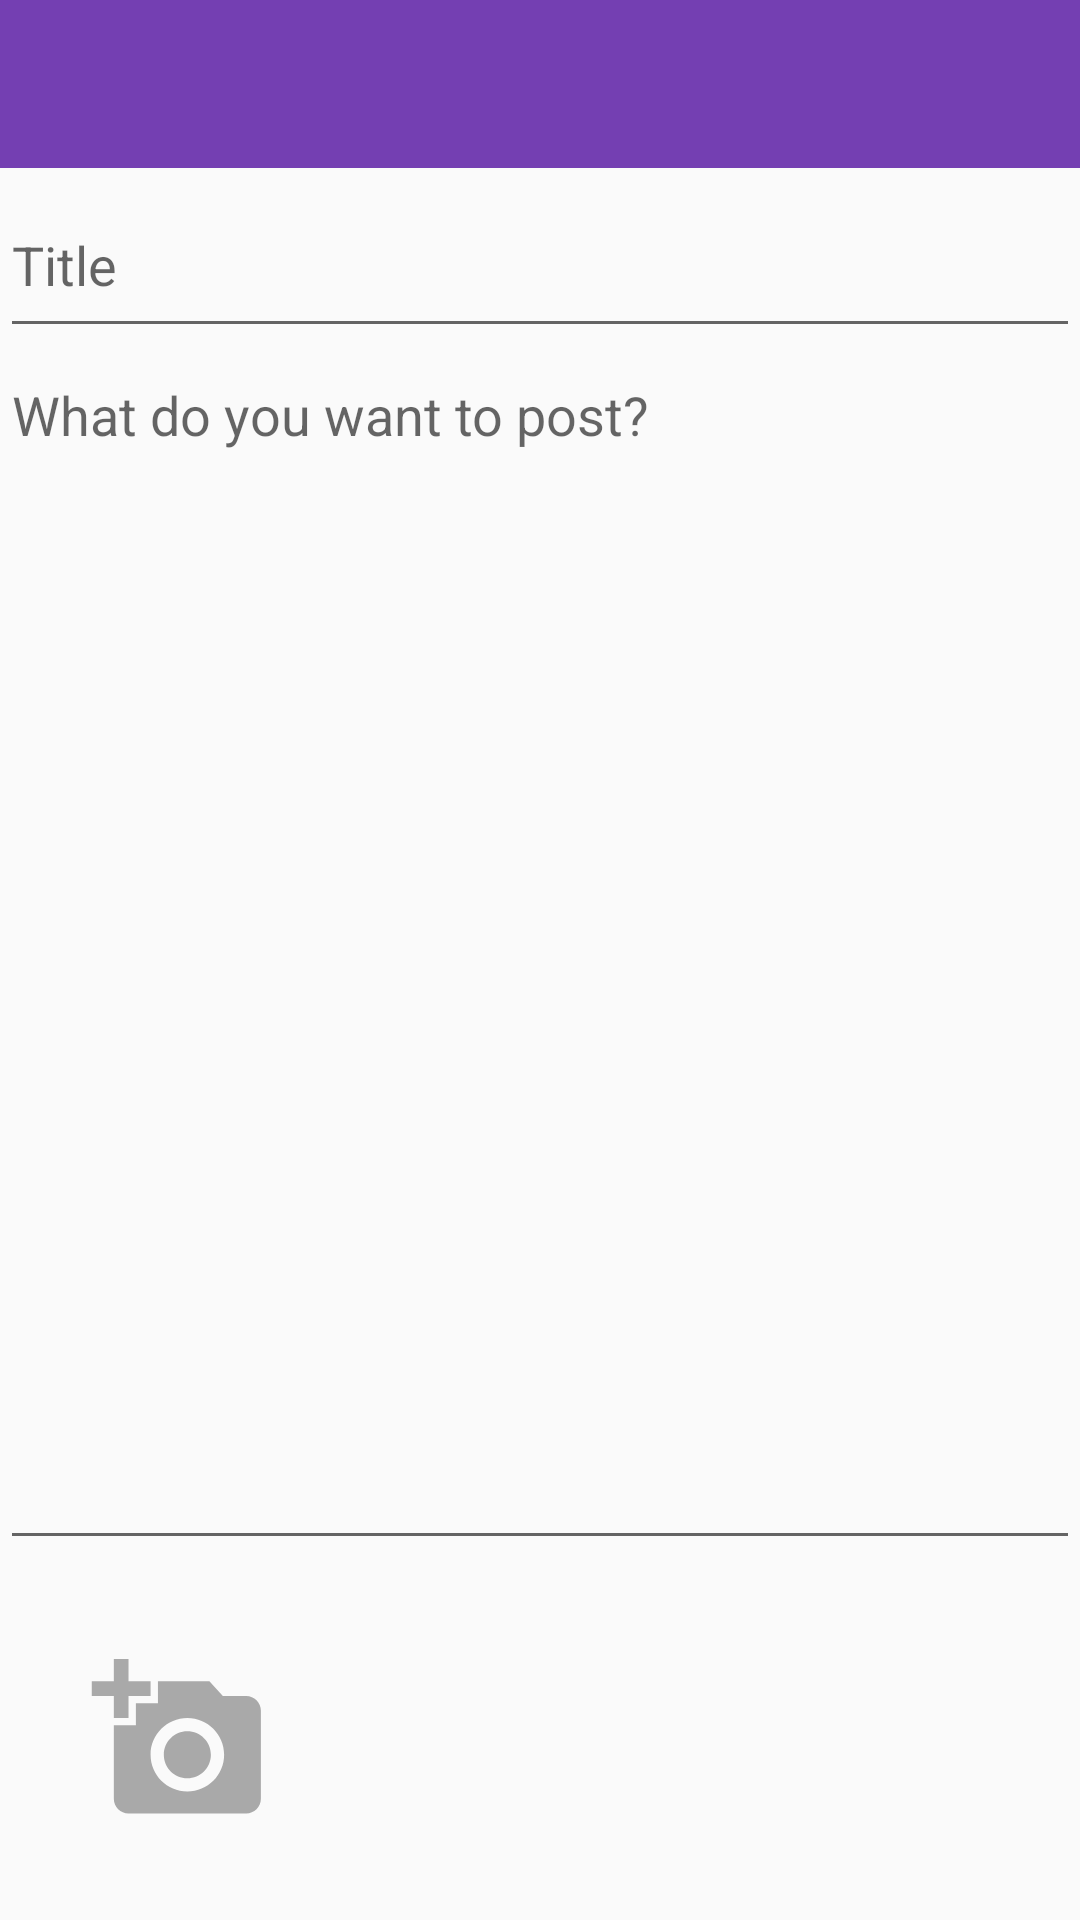

Named icons in this screenshot (1080×1920) and their bounding boxes, (x1, y1, x2, y2):
upload: (92, 1659, 261, 1814)
